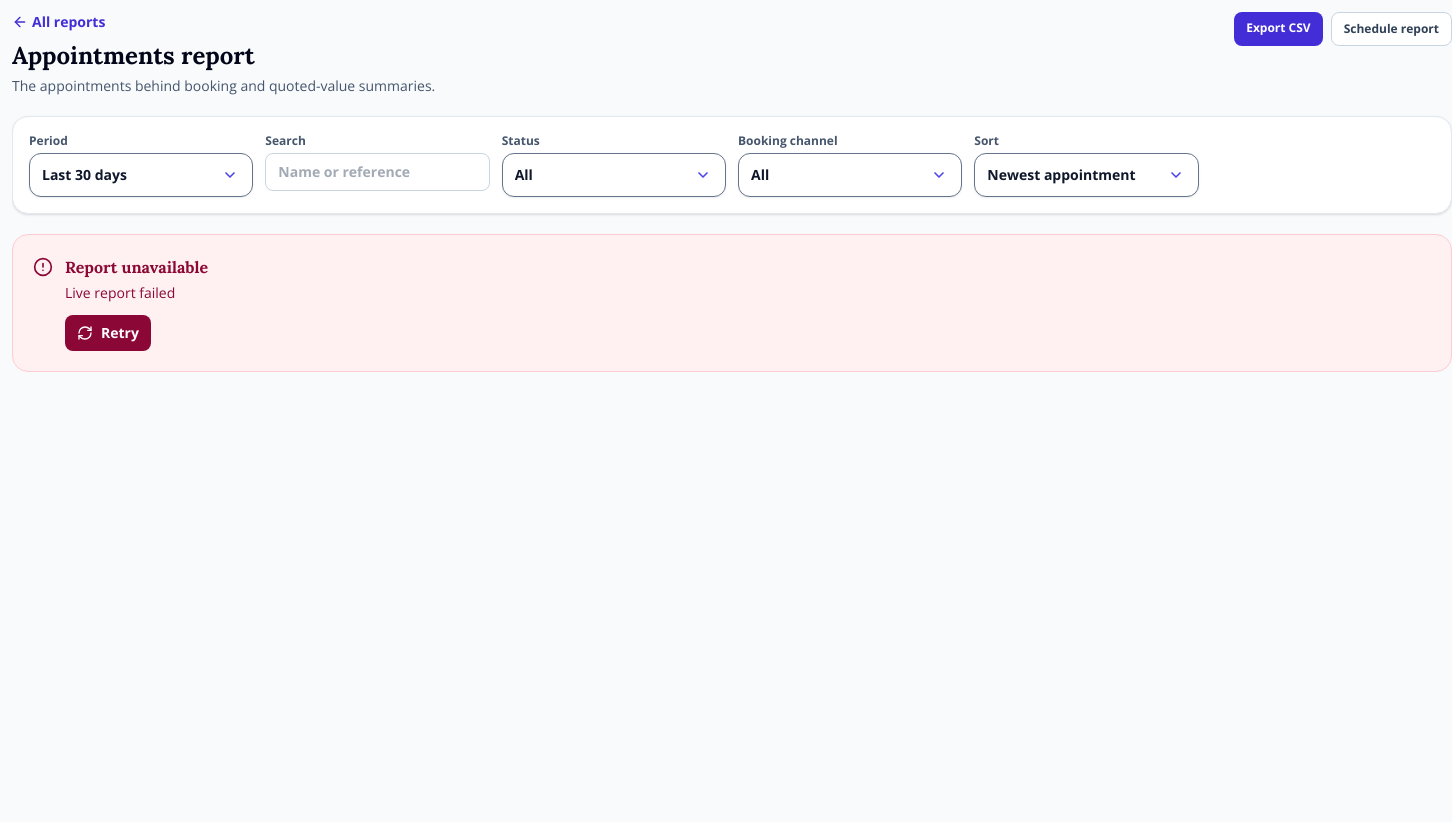
Test: Operational reports › shows honest empty and retry states without mock rows
The width and height of the screenshot is (1452, 822).
Expected: the text "Live report failed" is shown, [65,283,175,302]
Click the button "Retry": click(108, 333) [65,315,151,351]
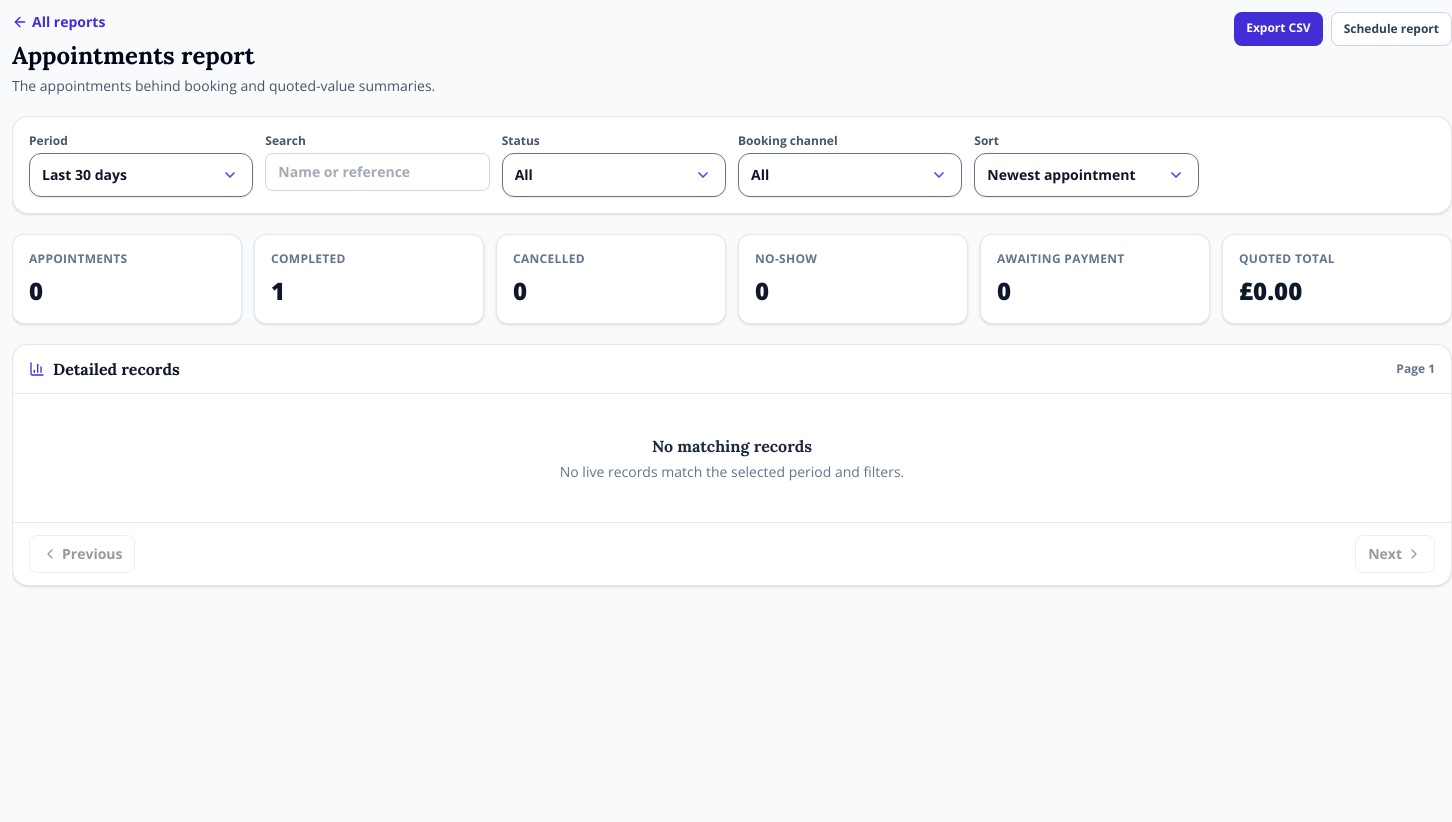
Now the heading "No matching records" is shown, box [652,436,812,456]
